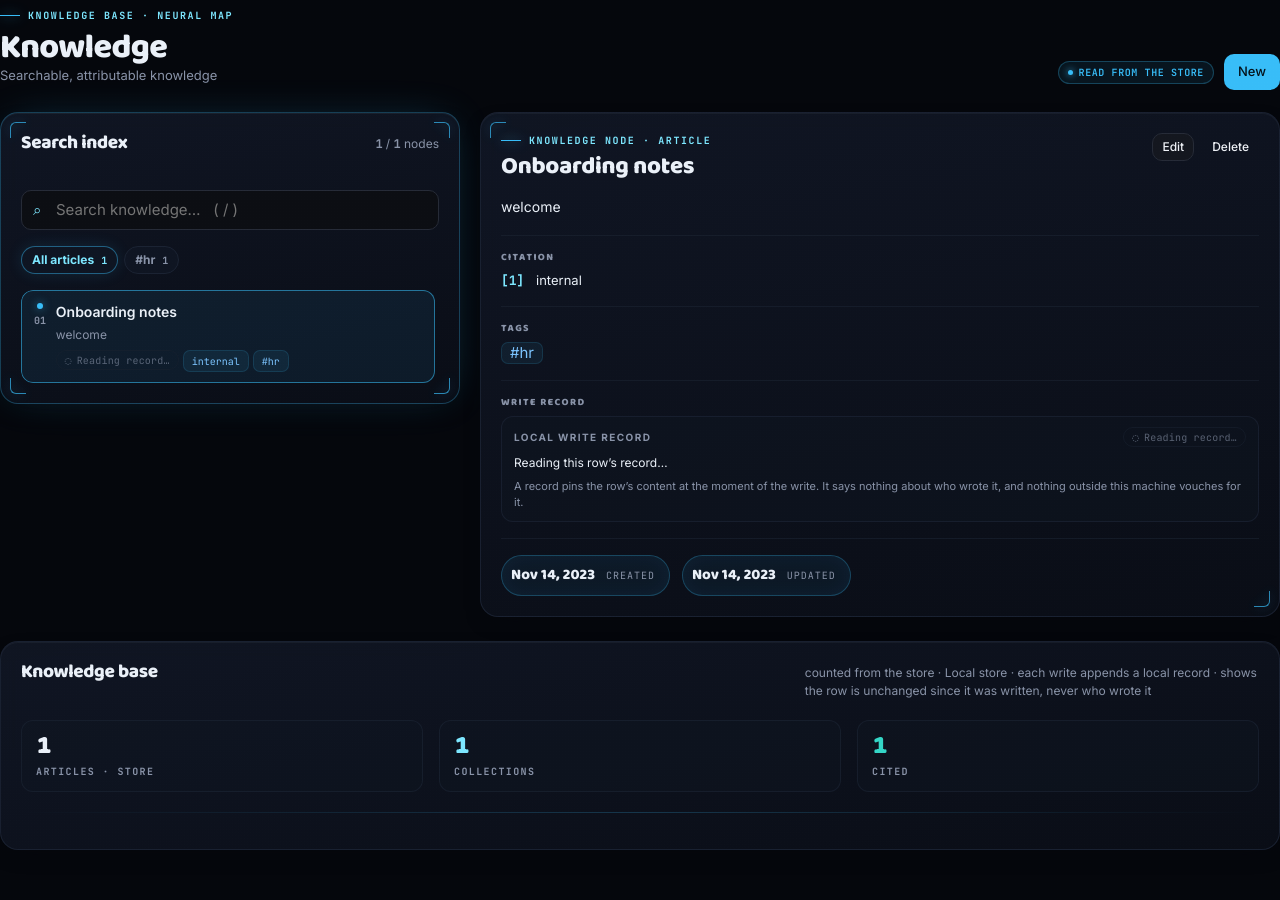
Knowledge — the confirm button says the delete is in flight › reads "Deleting…" until the backend answers
Expected: the text "Onboarding notes" is shown, [56,303,177,320]
Step 1. Click the button "Delete" → click(1231, 147), box [1202,133,1259,161]
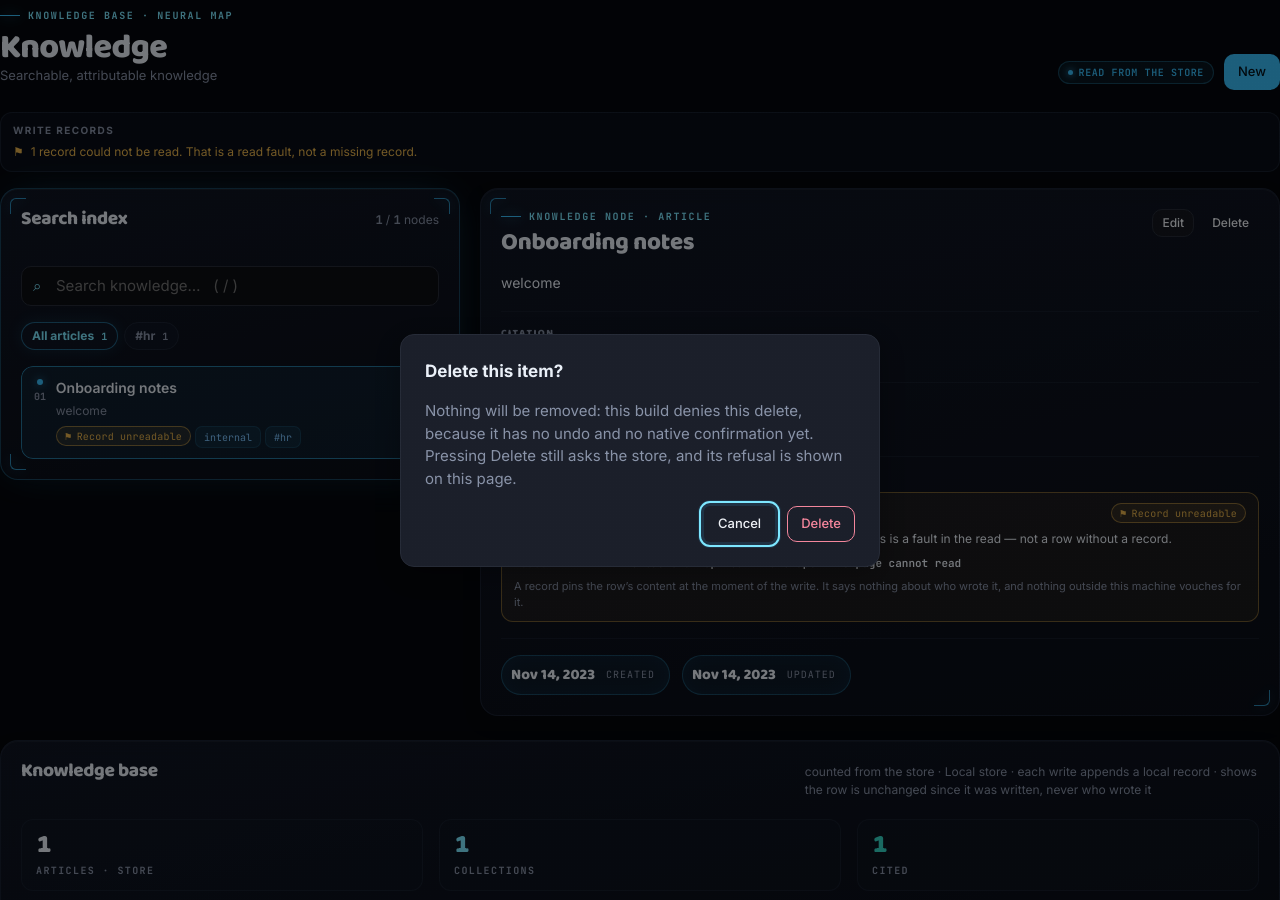
Expected: the dialog does not show "cannot be undone", [400,334,880,566]
Expected: the dialog shows "Nothing will be removed", [425,401,842,488]
Expected: the button "Delete" is shown
Step 2. Click the button "Delete" → click(821, 524), box [787,506,855,542]
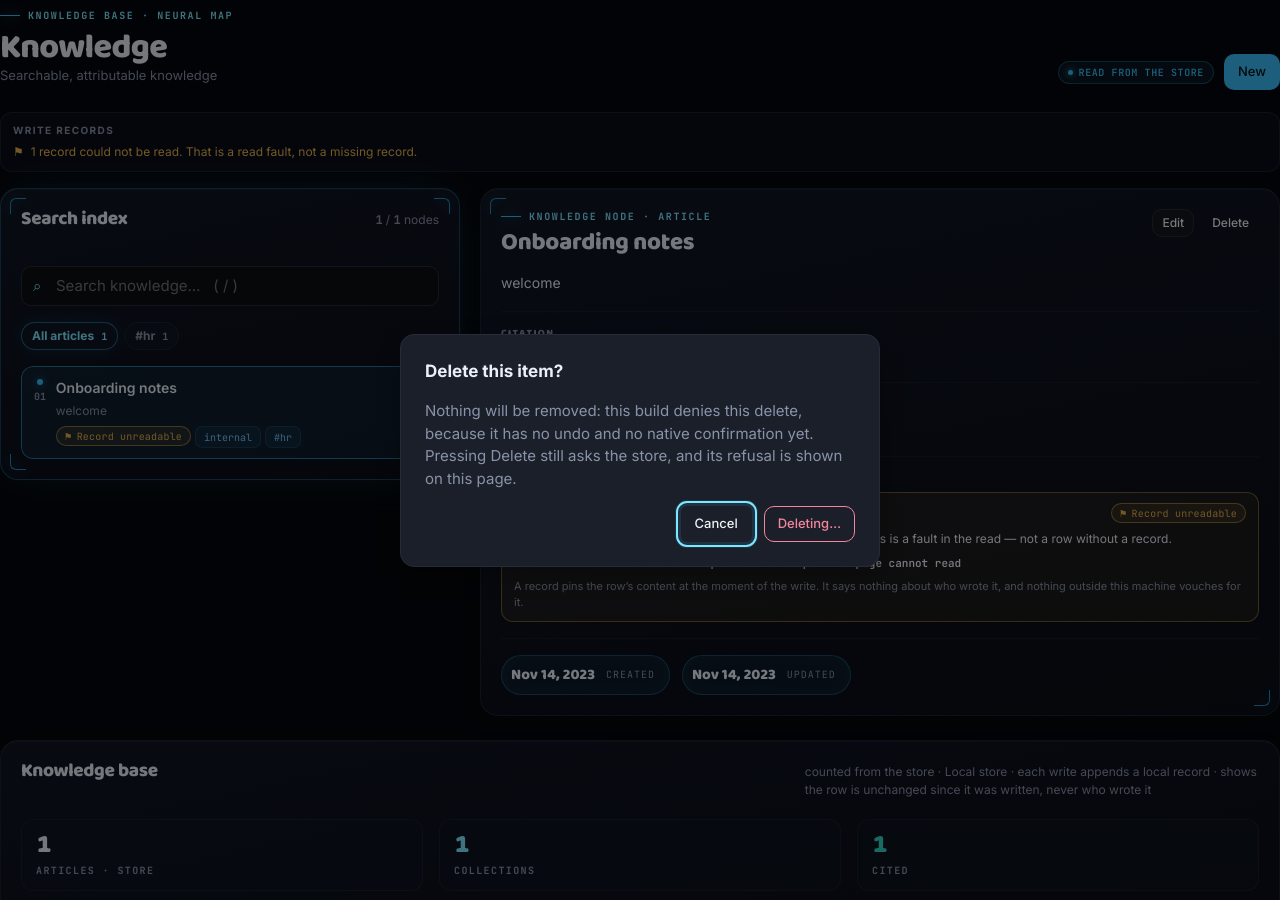
Expected: the dialog shows "Deleting…", [764,506,855,542]
